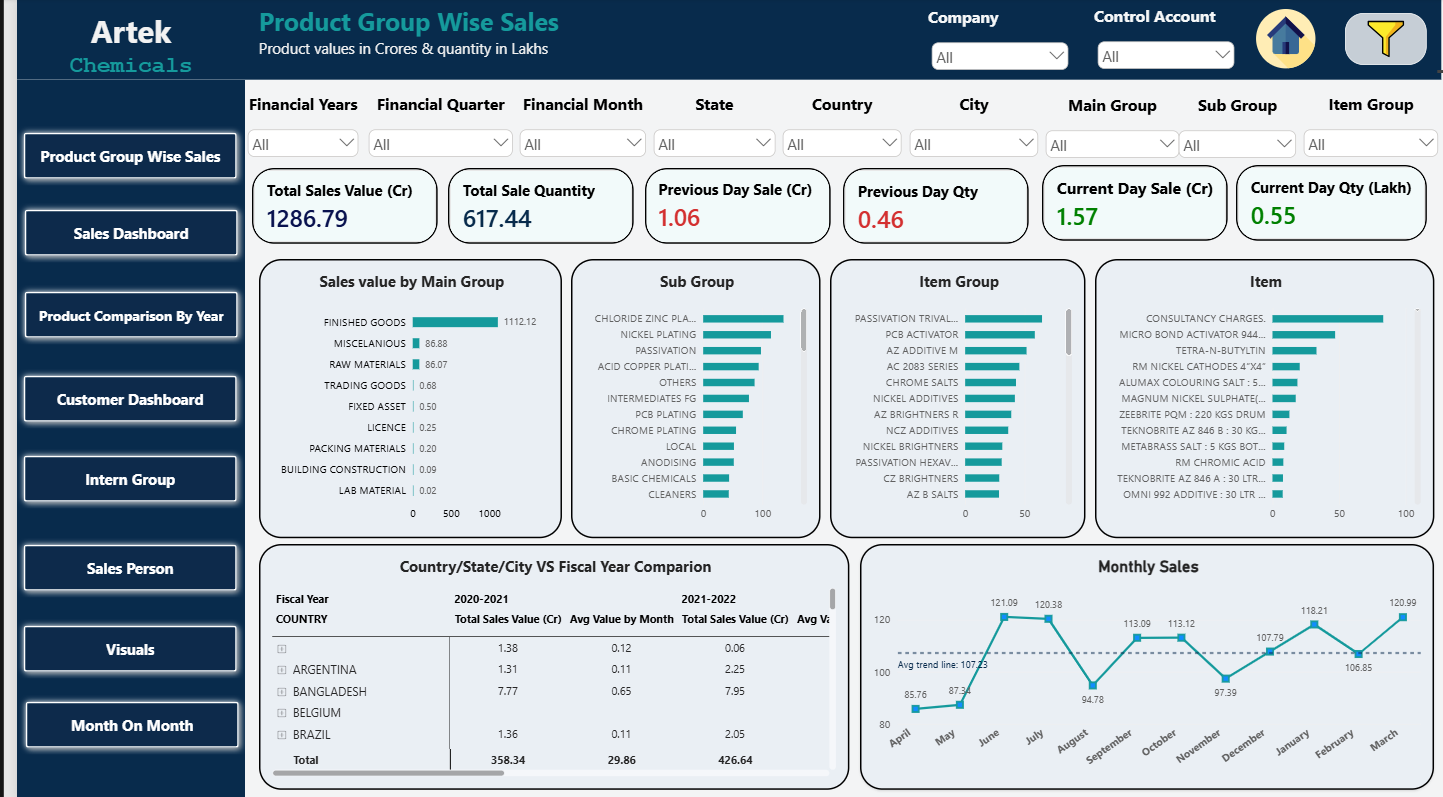

Layout of this report page (visuals, bound fields, positions):
{"tool":"powerbi","page":{"name":"Product Group Wise Sales","canvas":[1920,1080],"ordinal":1},"visuals":[{"type":"shape","box":[0,110,307.1,970],"z":0},{"type":"cardVisual","fields":{"Data":["FactSales.Total Quantity"]},"box":[580.3,228.6,250.3,102],"z":1000},{"type":"clusteredBarChart","title":"Sales value by Main Group","fields":{"Category":["FactSales.MAIN_GROUP"],"Y":["FactSales.Total Sales Value (Cr)"]},"box":[326.1,351.7,407.7,375.7],"z":1000},{"type":"cardVisual","fields":{"Data":["FactSales.Previous Day Qty (Lakh)"]},"box":[1112.7,228.6,250,102],"z":2000},{"type":"clusteredBarChart","title":"Sub Group","fields":{"Category":["FactSales.SUB_GROUP"],"Y":["FactSales.Total Sales Value (Cr)"]},"box":[746.6,351.7,335.7,375.7],"z":2000},{"type":"cardVisual","fields":{"Data":["FactSales.Current Day Sale (Cr)"]},"box":[1379.7,225.4,250.3,102],"z":3000},{"type":"clusteredBarChart","title":"Item Group","fields":{"Category":["FactSales.ITEM_GROUP"],"Y":["FactSales.Total Sales Value (Cr)"]},"box":[1095.1,351.7,343.7,375.7],"z":3000},{"type":"cardVisual","fields":{"Data":["FactSales.Current Day Qty (Lakh)"]},"box":[1641.8,225.4,257.4,102.3],"z":4000},{"type":"clusteredBarChart","title":"Item","fields":{"Category":["FactSales.ITEM"],"Y":["FactSales.Total Sales Value (Cr)"]},"box":[1451.7,351.5,456.5,375.7],"z":4000},{"type":"lineChart","title":"Monthly Sales","fields":{"Category":["Calendar.Month Name"],"Y":["FactSales.Total Sales Value (Cr)"]},"box":[1135.2,735.3,773,331.3],"z":5000},{"type":"shape","box":[0,0,1918.3,110],"z":6000},{"type":"textbox","title":"Product Group Wise Sales","box":[305.5,0,1614.5,109.2],"z":7000},{"type":"textbox","title":"Artek","box":[0,0,307,110.4],"z":8000},{"type":"cardVisual","fields":{"Data":["FactSales.Previous Day Sale (Cr)"]},"box":[845.7,228.6,250,102],"z":9000},{"type":"pivotTable","title":"Country/State/City VS Fiscal Year Comparion","fields":{"Columns":["Calendar.Fiscal Year"],"Rows":["FactSales.COUNTRY","FactSales.STATE","FactSales.CITY"],"Values":["FactSales.Total Sales Value (Cr)","FactSales.Average Value by Month"]},"box":[326.1,735.4,794.5,330.9],"z":9000},{"type":"actionButton","title":"Product Group wise Sales","box":[0,172.4,305,80],"z":10000},{"type":"slicer","title":"Control Account","fields":{"Values":["FactSales.CONTROL_ACCOUNT"]},"box":[1449.8,10,194.3,90],"z":11000},{"type":"actionButton","title":"Product Group wise Sales","box":[1.3,276.1,305,80],"z":12000},{"type":"slicer","title":"State","fields":{"Values":["FactSales.Area Name"]},"box":[852.4,127.5,173.7,89.2],"z":13000},{"type":"slicer","title":"Company","fields":{"Values":["FactSales.COMPANY"]},"box":[1226.7,10.3,194.3,90],"z":14000},{"type":"slicer","title":"Country","fields":{"Values":["FactSales.LOCATIONNAME"]},"box":[1026.1,127.5,170.1,89.6],"z":15000},{"type":"actionButton","title":"Product Group wise Sales","box":[1.7,386.7,305,80],"z":16000},{"type":"slicer","title":"City","fields":{"Values":["FactSales.CITY"]},"box":[1196.6,127.5,183.2,89.6],"z":17000},{"type":"actionButton","title":"Product Group wise Sales","box":[0,500,305,80],"z":18000},{"type":"slicer","title":"Item Group","fields":{"Values":["FactSales.ITEM_GROUP"]},"box":[1727.2,127.5,191.2,89.2],"z":19000},{"type":"cardVisual","fields":{"Data":["FactSales.Total Sales Value (Cr)"]},"box":[316.5,228.6,250.3,102],"z":20000},{"type":"actionButton","title":"Product Group wise Sales","box":[0,606.7,305,80],"z":20000},{"type":"actionButton","title":"Product Group wise Sales","box":[0,726.7,305,80],"z":21000},{"type":"slicer","title":"Main Group","fields":{"Values":["FactSales.MAIN_GROUP"]},"box":[1379.9,129.1,189.7,89.6],"z":22000},{"type":"slicer","title":"Sub Group","fields":{"Values":["FactSales.SUB_GROUP"]},"box":[1559.9,129.1,168.5,89.6],"z":23000},{"type":"actionButton","title":"Product Group wise Sales","box":[0,836.7,305,80],"z":24000},{"type":"actionButton","title":"Product Group wise Sales","box":[2.7,938.6,305,80],"z":25000},{"type":"slicer","title":"Financial Quarter","fields":{"Values":["Calendar.Fiscal Quarter"]},"box":[468.4,127.5,204,89.2],"z":26000},{"type":"slicer","title":"Financial Month","fields":{"Values":["Calendar.Month Name"]},"box":[672.4,127.5,180,90.8],"z":27000},{"type":"slicer","title":"Financial Years","fields":{"Values":["Calendar.Fiscal Year"]},"box":[305.3,127.9,159.2,90.4],"z":28000},{"type":"image","box":[1641.7,15,133.3,80],"z":30000},{"type":"image","box":[1788.3,20,109.8,69.5],"z":31000}]}

Visuals, with their boxes in screenshot pixels (x1, y1, x2, y2), scaled from the page's 1920x1080 canvas onto the 1443x797 screenshot:
shape: select_region(0, 81, 231, 796)
cardVisual - FactSales.Total Quantity: select_region(436, 169, 624, 244)
"Sales value by Main Group" clusteredBarChart: select_region(245, 260, 551, 537)
cardVisual - FactSales.Previous Day Qty (Lakh): select_region(836, 169, 1024, 244)
"Sub Group" clusteredBarChart: select_region(561, 260, 813, 537)
cardVisual - FactSales.Current Day Sale (Cr): select_region(1037, 166, 1225, 242)
"Item Group" clusteredBarChart: select_region(823, 260, 1081, 537)
cardVisual - FactSales.Current Day Qty (Lakh): select_region(1234, 166, 1427, 242)
"Item" clusteredBarChart: select_region(1091, 259, 1434, 537)
"Monthly Sales" lineChart: select_region(853, 543, 1434, 787)
shape: select_region(0, 0, 1442, 81)
"Product Group Wise Sales" textbox: select_region(230, 0, 1442, 81)
"Artek" textbox: select_region(0, 0, 231, 81)
cardVisual - FactSales.Previous Day Sale (Cr): select_region(636, 169, 823, 244)
"Country/State/City VS Fiscal Year Comparion" pivotTable: select_region(245, 543, 842, 787)
"Product Group wise Sales" actionButton: select_region(0, 127, 229, 186)
"Control Account" slicer: select_region(1090, 7, 1236, 74)
"Product Group wise Sales" actionButton: select_region(1, 204, 230, 263)
"State" slicer: select_region(641, 94, 771, 160)
"Company" slicer: select_region(922, 8, 1068, 74)
"Country" slicer: select_region(771, 94, 899, 160)
"Product Group wise Sales" actionButton: select_region(1, 285, 231, 344)
"City" slicer: select_region(899, 94, 1037, 160)
"Product Group wise Sales" actionButton: select_region(0, 369, 229, 428)
"Item Group" slicer: select_region(1298, 94, 1442, 160)
cardVisual - FactSales.Total Sales Value (Cr): select_region(238, 169, 426, 244)
"Product Group wise Sales" actionButton: select_region(0, 448, 229, 507)
"Product Group wise Sales" actionButton: select_region(0, 536, 229, 595)
"Main Group" slicer: select_region(1037, 95, 1180, 161)
"Sub Group" slicer: select_region(1172, 95, 1299, 161)
"Product Group wise Sales" actionButton: select_region(0, 617, 229, 676)
"Product Group wise Sales" actionButton: select_region(2, 693, 231, 752)
"Financial Quarter" slicer: select_region(352, 94, 505, 160)
"Financial Month" slicer: select_region(505, 94, 641, 161)
"Financial Years" slicer: select_region(229, 94, 349, 161)
image: select_region(1234, 11, 1334, 70)
image: select_region(1344, 15, 1427, 66)
